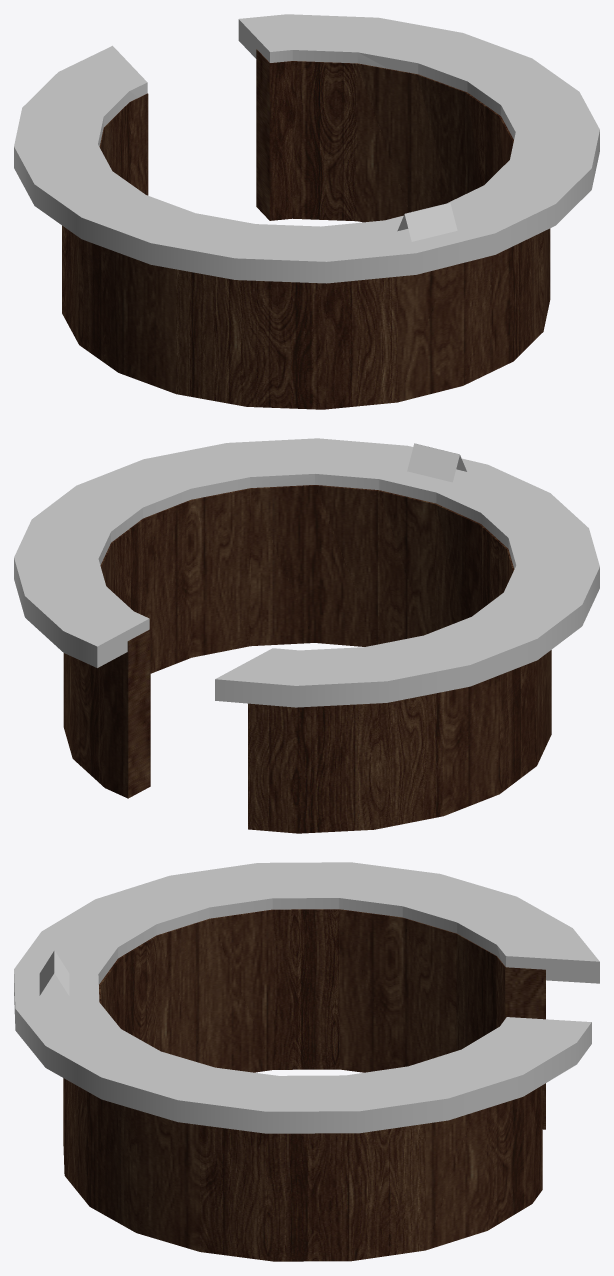
File: InfoDesk.fbx
3 views of the same model, one above another, from view 1: azimuth 30°, elevation 25°; view 2: azimuth 150°, elevation 25°; view 3: azimuth 270°, elevation 25° (orthographic).
Visible parts, largest first — view 1: polySurface3, polySurface4, pPlane1; view 2: polySurface3, polySurface4, pPlane2; view 3: polySurface3, polySurface4.
Boxes of the visible parts, box(x1,y1,x2,y2) form: polySurface3: box(62, 49, 550, 409); polySurface4: box(14, 14, 599, 283); pPlane1: box(404, 203, 457, 241); polySurface3: box(63, 485, 551, 833); polySurface4: box(14, 438, 599, 707); pPlane2: box(407, 443, 459, 482); polySurface3: box(63, 909, 545, 1261); polySurface4: box(14, 862, 599, 1133).
Size of the model in its own units: 22.06 by 8.01 by 21.89.
